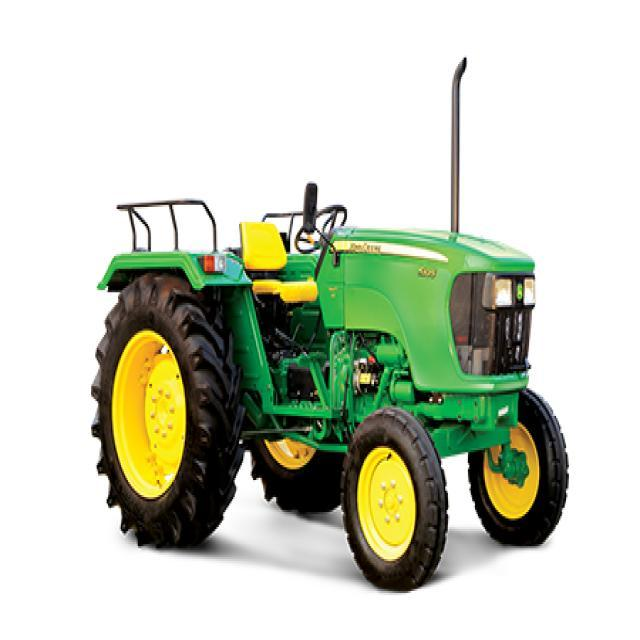Tratores - v5 YOLO V8L 2024-11-13: (85, 30, 579, 591)
